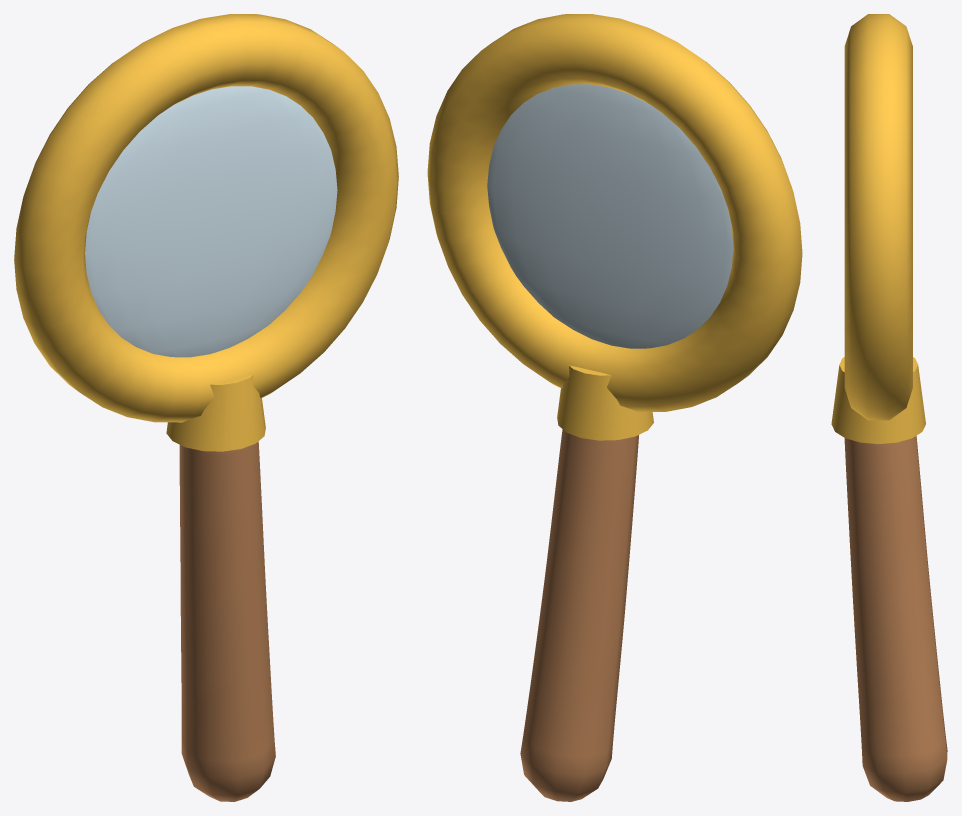
Rendered from prop-magnifier.glb.
The picture shows the model from 3 angles, left to right: view 1: azimuth 30°, elevation 25°; view 2: azimuth 150°, elevation 25°; view 3: azimuth 270°, elevation 25°; orthographic projection. The views are drawn at different scales.
Visible parts, largest first — view 1: prop-magnifier-mesh; view 2: prop-magnifier-mesh; view 3: prop-magnifier-mesh.
Boxes of the visible parts, x1,y1,x2,y2 form: prop-magnifier-mesh: (14, 14, 398, 801); prop-magnifier-mesh: (427, 14, 802, 801); prop-magnifier-mesh: (831, 14, 947, 801).
Bounding box in the file's own units: 0.3095 × 0.6285 × 0.0883.
